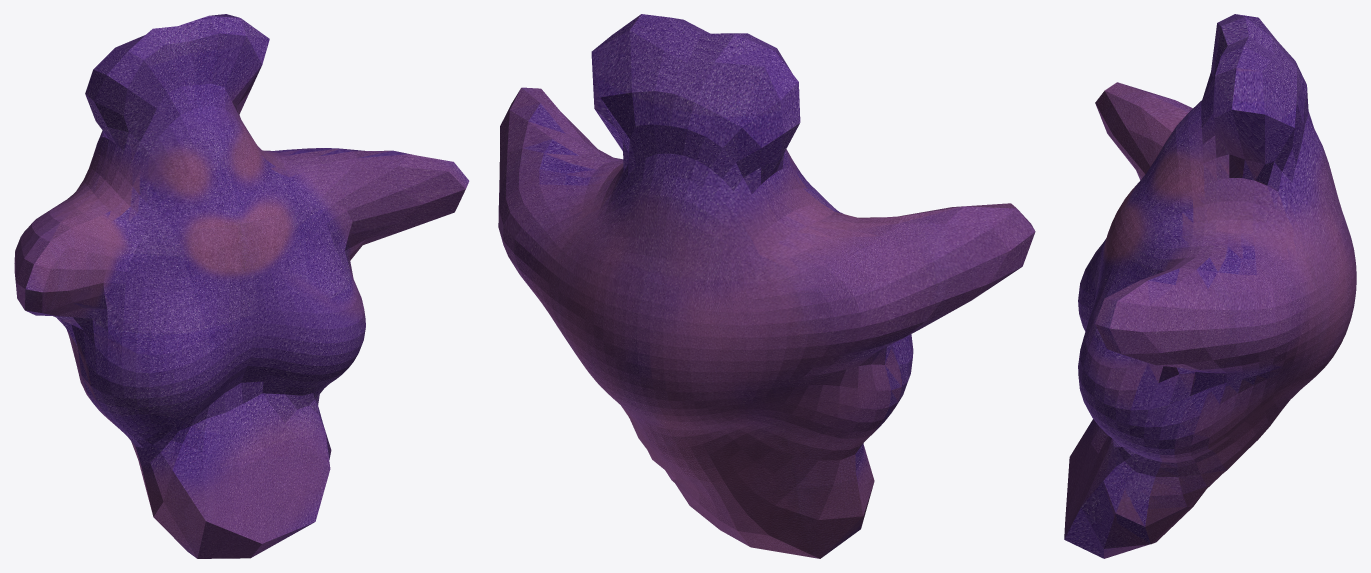
Rendered from TestSphere.gltf.
The picture shows the model from 3 angles, left to right: view 1: azimuth 30°, elevation 25°; view 2: azimuth 150°, elevation 25°; view 3: azimuth 270°, elevation 25°; orthographic projection. The views are drawn at different scales.
Parts seen in each view (by area): view 1: Cube; view 2: Cube; view 3: Cube.
Boxes of the visible parts, left/top/right/bottom form: Cube: left=14, top=14, right=469, bottom=558; Cube: left=498, top=14, right=1035, bottom=558; Cube: left=1064, top=14, right=1356, bottom=558.
Bounding box in the file's own units: 3.6 × 3.77 × 1.92.
Materials: 1 (1 with a texture image).
